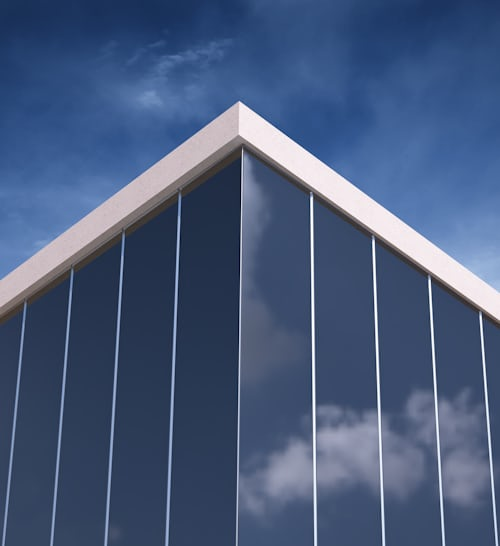glass panel: (238, 153, 312, 545), (169, 160, 240, 545), (108, 204, 176, 545), (314, 202, 380, 545), (376, 244, 440, 545), (55, 245, 119, 545), (6, 280, 68, 545), (432, 283, 494, 545), (0, 312, 21, 535), (483, 318, 499, 516)
